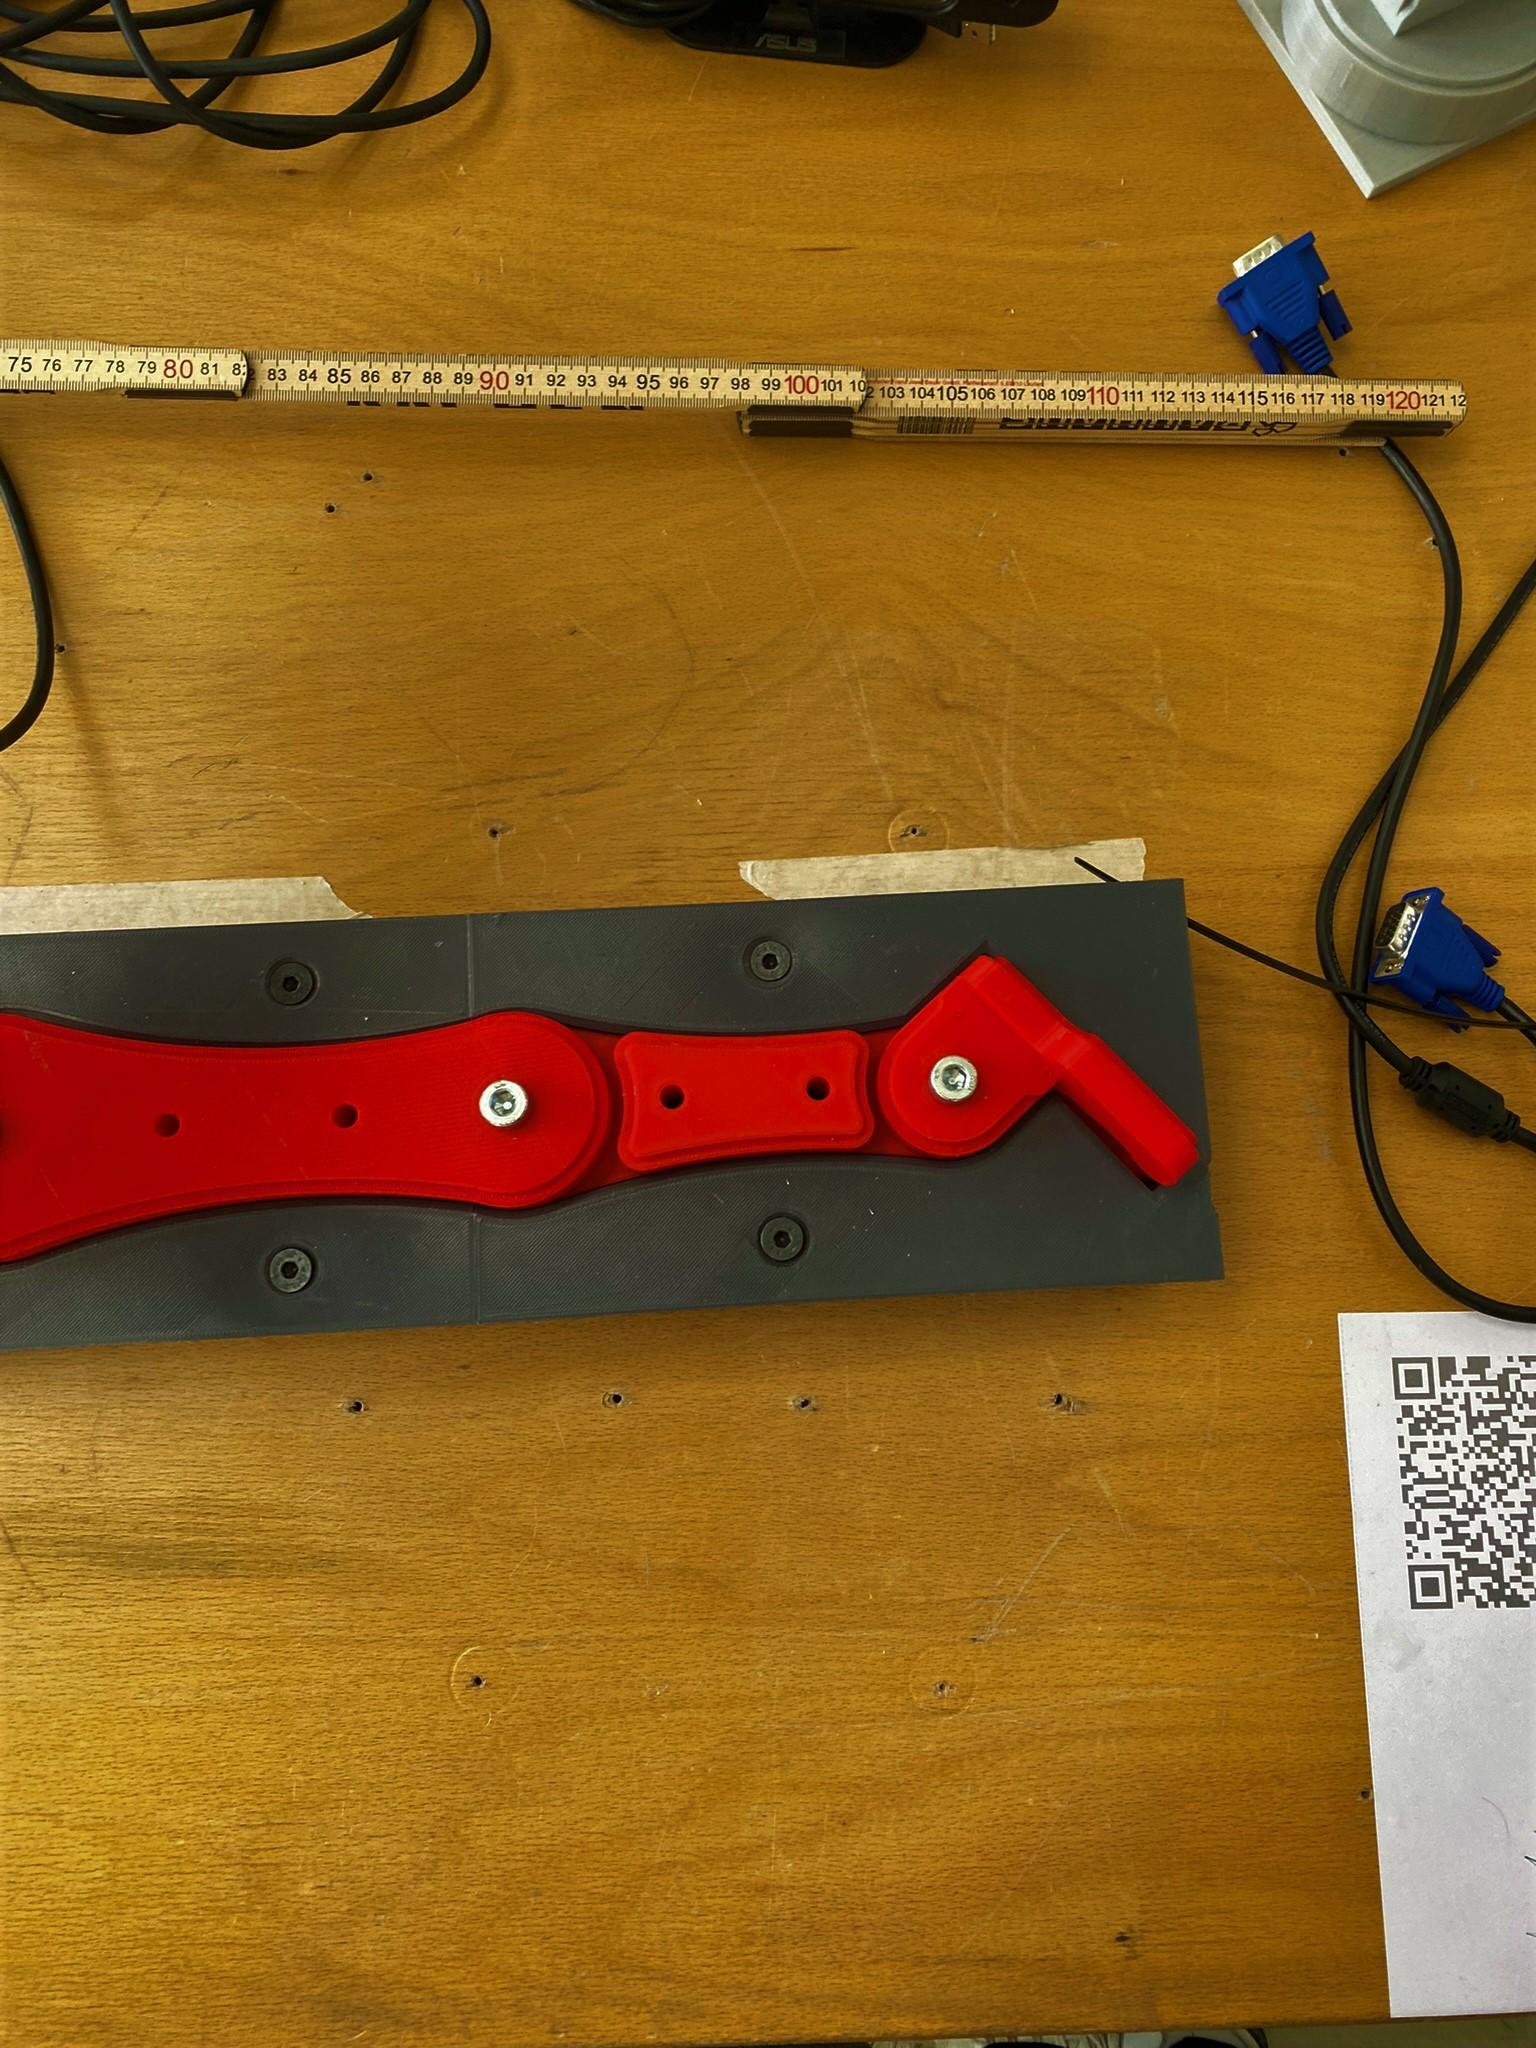H: (757, 1214, 808, 1263), (481, 1077, 528, 1127), (266, 1247, 311, 1292), (934, 1055, 975, 1105), (750, 935, 791, 984), (266, 963, 315, 1001)
